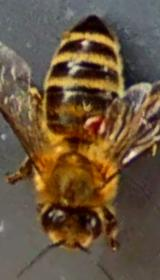varroa_mite: (76, 109, 114, 137)
